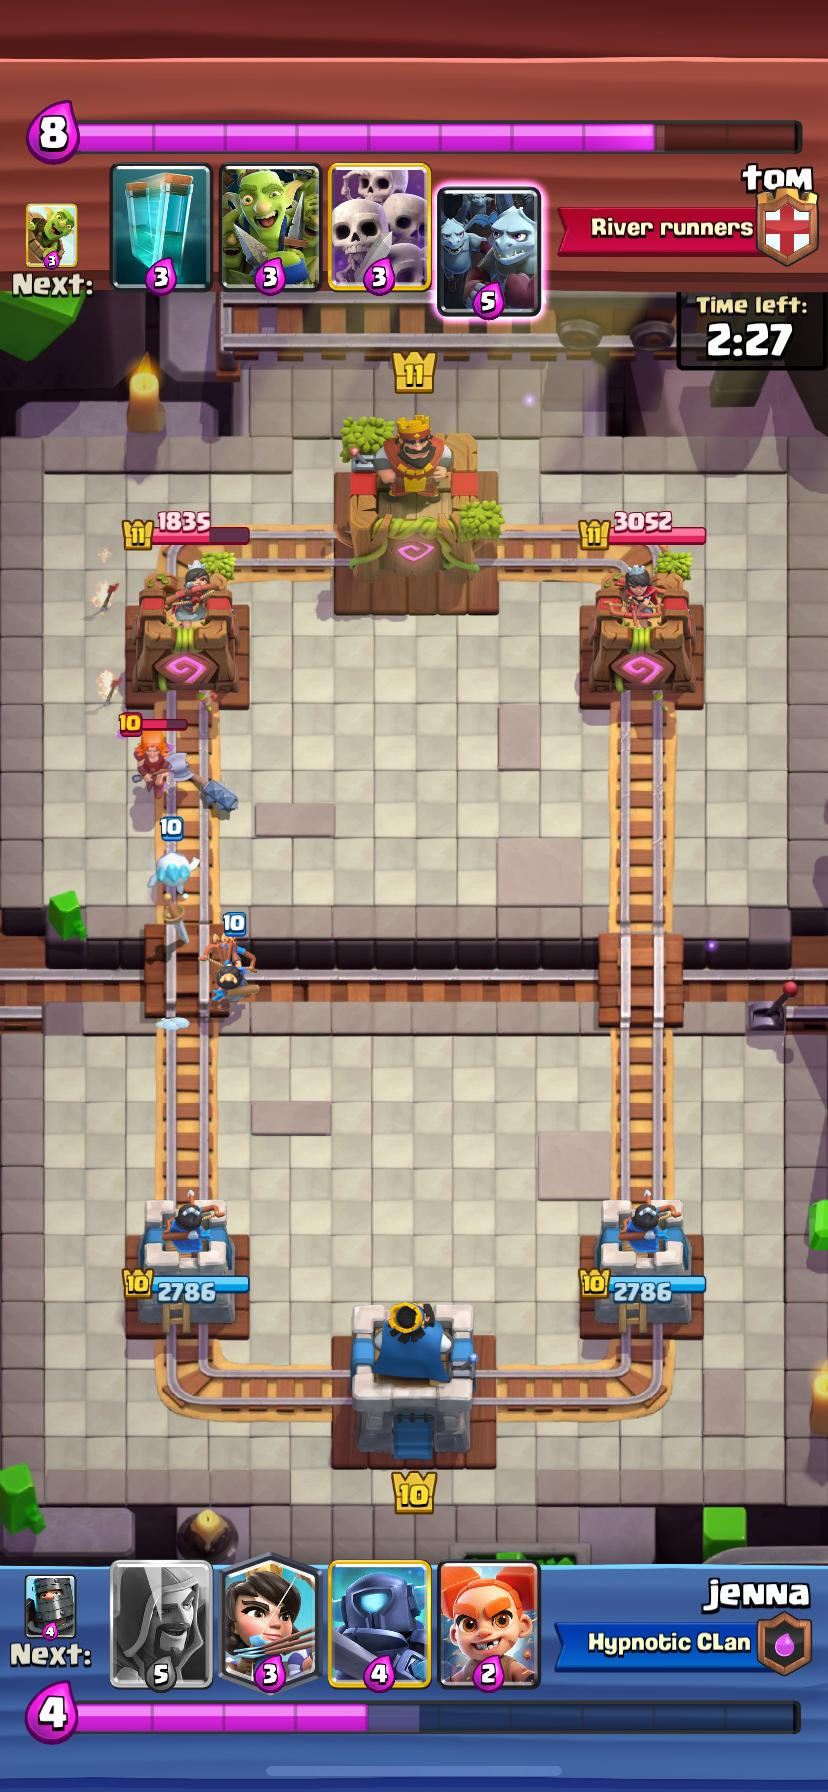EKingTower: (335, 414, 500, 613)
EValk: (119, 710, 191, 805)
EnemyPrincessTower: (580, 546, 703, 707), (134, 546, 238, 696)
OIceSpirit: (148, 814, 198, 899)
OPrincess: (200, 934, 257, 1013)
OwnKingTower: (350, 1303, 476, 1459)
OwnPrincessTower: (580, 1200, 704, 1330), (124, 1200, 248, 1330)
